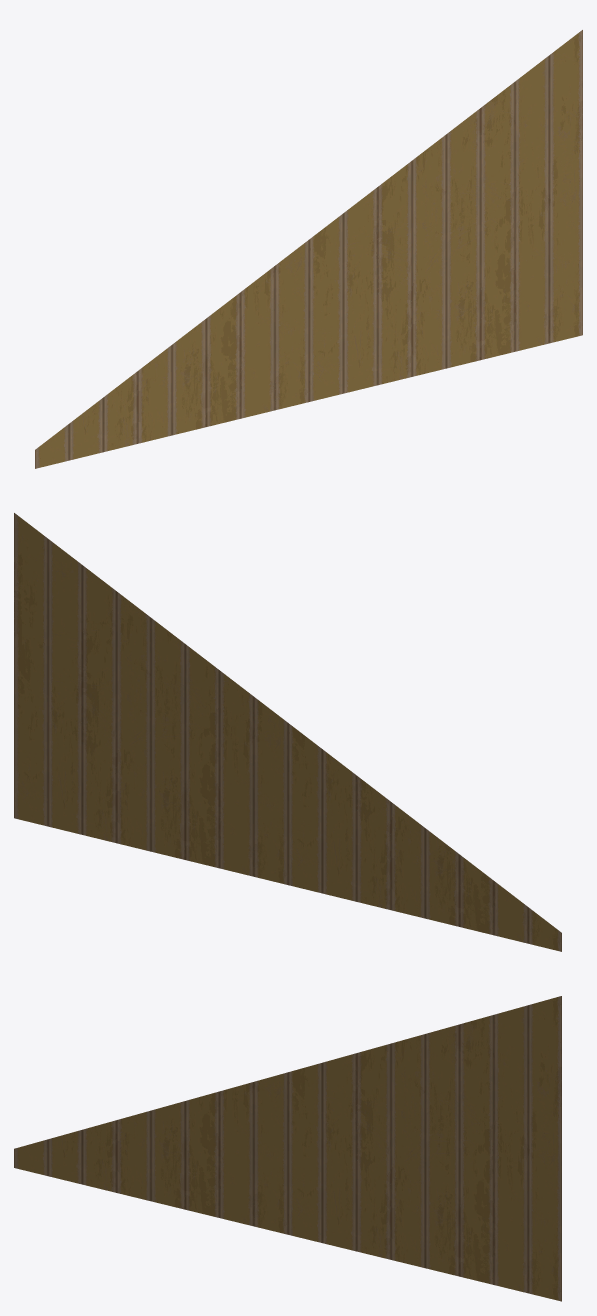
The model's file is SM_hangar_frame_21.glb.
3 renders of one model, top to bottom at view 1: azimuth 30°, elevation 25°; view 2: azimuth 150°, elevation 25°; view 3: azimuth 330°, elevation 25°, orthographic.
Parts seen in each view (by area): view 1: SM_hangar_frame_21; view 2: SM_hangar_frame_21; view 3: SM_hangar_frame_21.
Part boxes in pixels (x1,y1,x2,y2): SM_hangar_frame_21: [35, 30, 582, 468]; SM_hangar_frame_21: [14, 513, 561, 951]; SM_hangar_frame_21: [14, 996, 561, 1301].
Size of the model in its own units: 3 by 1.6 by 0.2.
1 material, 1 textured.
